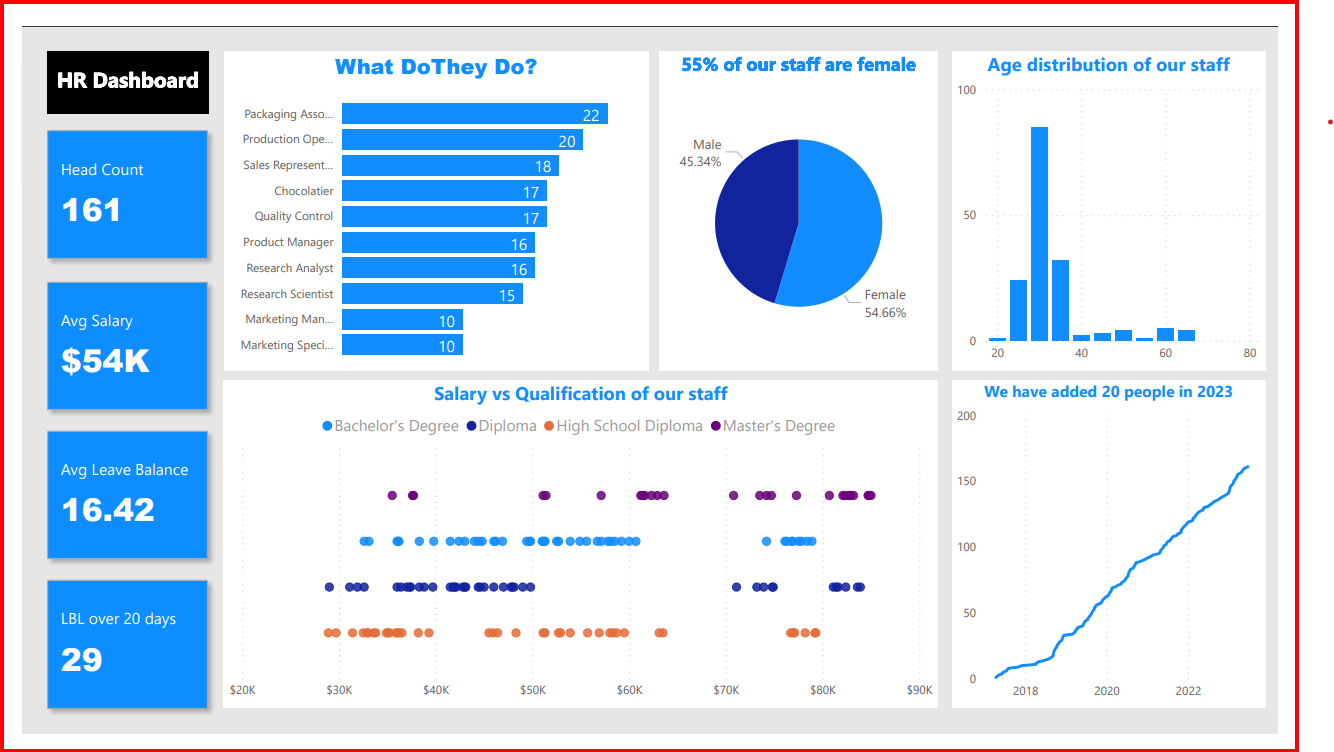

This screenshot's page, from the dashboard's own definition file:
{"tool":"powerbi","page":{"name":"Page 10","canvas":[1280,720],"ordinal":9},"visuals":[{"type":"cardVisual","fields":{"Data":["staff.Head Count","staff.Avg Salary","staff.Avg Leave Balance","staff.LBL over 20 days"]},"box":[9.6,89.2,196.2,620.2],"z":0},{"type":"barChart","title":"What DoThey Do?","fields":{"Y":["staff.Head Count"],"Category":["staff.Job Title"]},"box":[205.8,24.7,433.6,325.2],"z":1000},{"type":"pieChart","title":"55% of our staff are female","fields":{"Category":["staff.Gender"],"Y":["staff.Head Count"]},"box":[650.4,24.7,284,325.2],"z":2000},{"type":"columnChart","title":"Age distribution of our staff","fields":{"Category":["staff.Age (bins)"],"Y":["staff.Head Count"]},"box":[948.2,24.7,319.7,325.2],"z":3000},{"type":"scatterChart","title":"Salary vs Qualification of our staff","fields":{"X":["staff.Salary"],"Y":["qual.Qualification ID"],"Series":["qual.Qualification"]},"box":[205.8,359.5,728.6,334.8],"z":3001},{"type":"lineChart","title":"We have added 20 people in 2023","fields":{"Y":["staff.Cumulative Headcount"],"Category":["staff.Date of Join"]},"box":[948.2,359.5,319.7,334.8],"z":3002},{"type":"textbox","box":[26.1,24.7,164.7,64.5],"z":3003},{"type":"textbox","box":[26.1,34.3,164.7,54.9],"z":3004}]}

Visuals, with their boxes in screenshot pixels (x1, y1, x2, y2), scaled from the page's 1280x720 canvas onto the 1334x752 screenshot:
cardVisual - staff.Head Count x staff.Avg Salary: l=10, t=93, r=214, b=741
"What DoThey Do?" barChart: l=214, t=26, r=666, b=365
"55% of our staff are female" pieChart: l=678, t=26, r=974, b=365
"Age distribution of our staff" columnChart: l=988, t=26, r=1321, b=365
"Salary vs Qualification of our staff" scatterChart: l=214, t=375, r=974, b=725
"We have added 20 people in 2023" lineChart: l=988, t=375, r=1321, b=725
textbox: l=27, t=26, r=199, b=93
textbox: l=27, t=36, r=199, b=93
